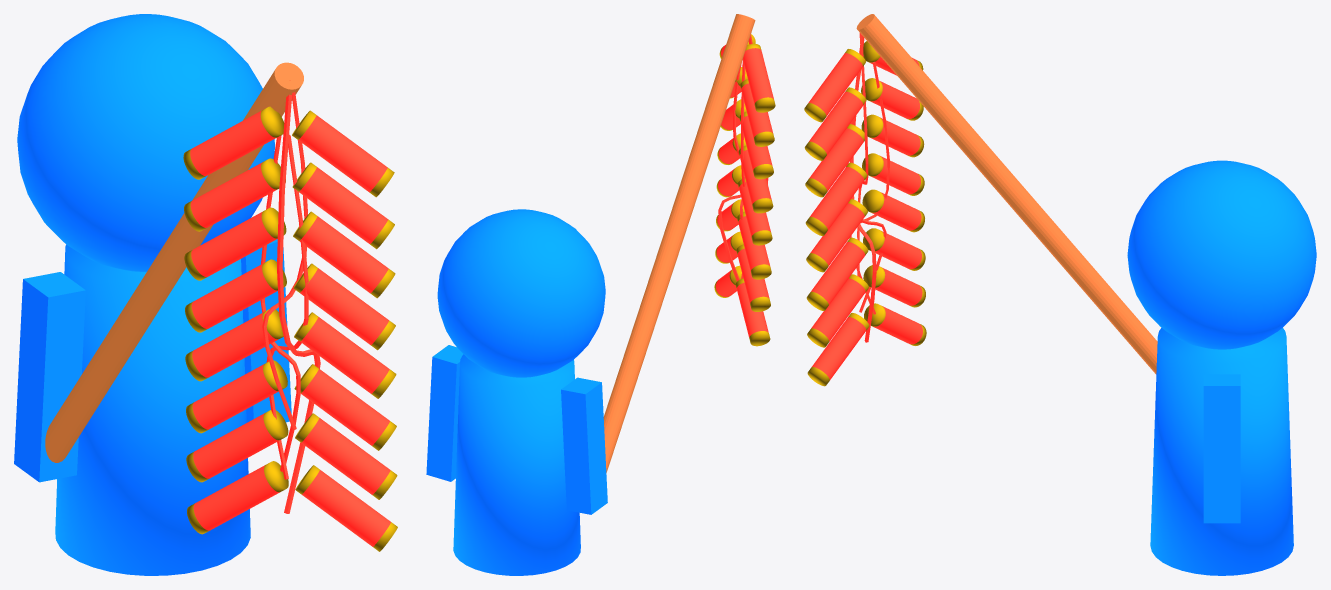
File: trap man.fbx
3 renders of one model, left to right at view 1: azimuth 30°, elevation 25°; view 2: azimuth 150°, elevation 25°; view 3: azimuth 270°, elevation 25°, orthographic. The views are drawn at different scales.
Parts seen in each view (by area): view 1: Cube.029; view 2: Cube.029; view 3: Cube.029.
Part boxes in pixels (<box>): Cube.029: <box>14,14,397,575</box>; Cube.029: <box>426,14,775,575</box>; Cube.029: <box>804,14,1316,575</box>.
Size of the model in its own units: 65.43 by 136 by 129.
